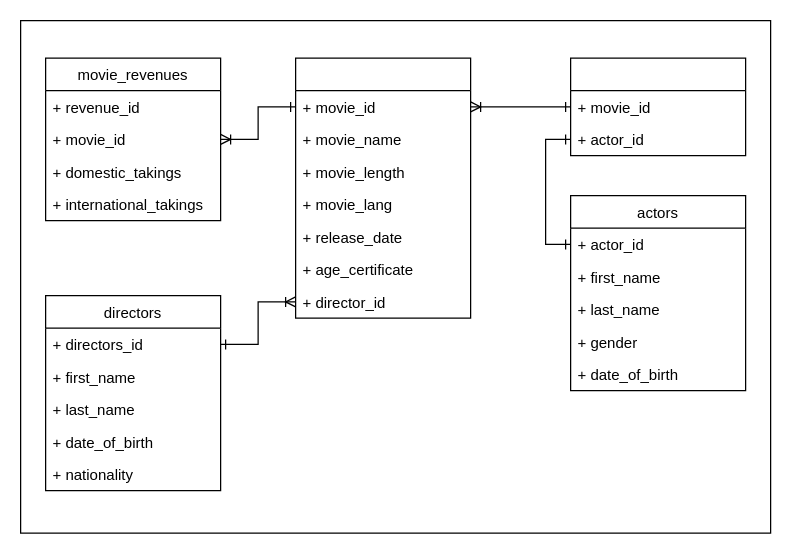
Image size: 791x554. Some labels were removed from this diagram. The shapes that lost their labels are listed below. From the top down, each one's box as (x1, y1, x2, y2) in pixels, then its label:
(569, 57, 746, 156): movies_actors
(294, 57, 471, 318): movies
